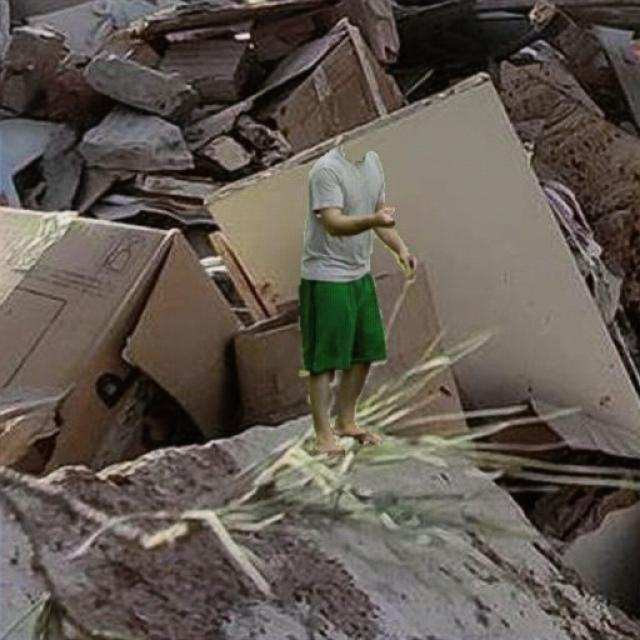Person in Rubble: (299, 145, 415, 456)
